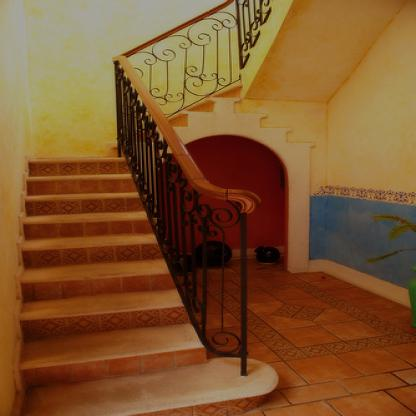stairs: (22, 217, 159, 403)
